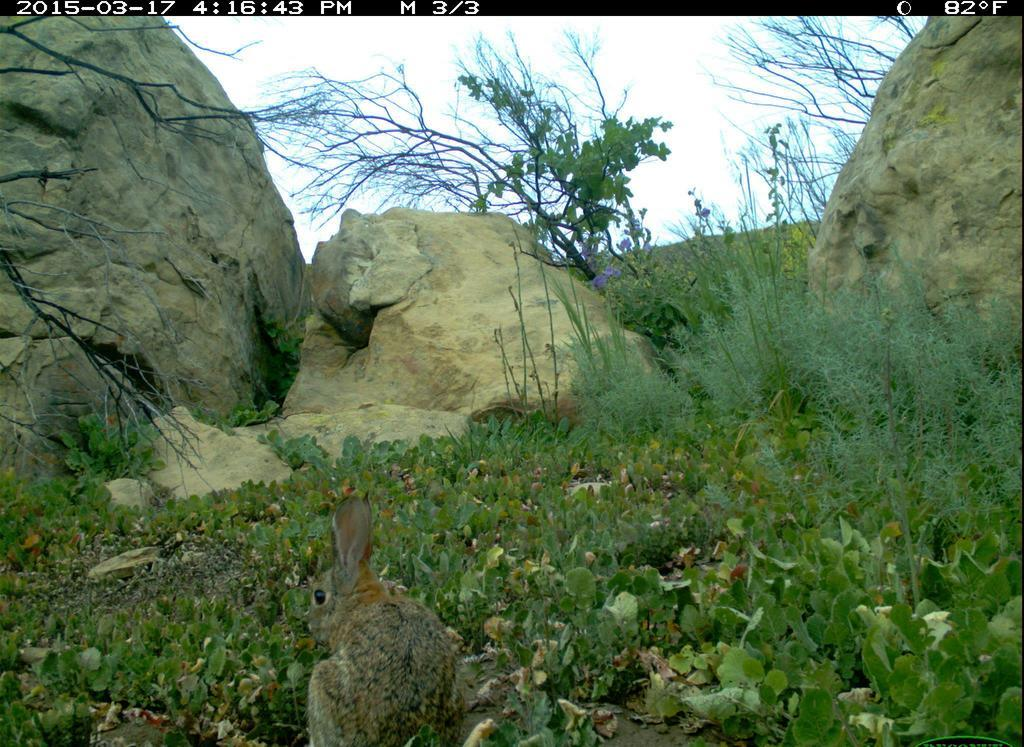rabbit: (276, 477, 494, 747)
